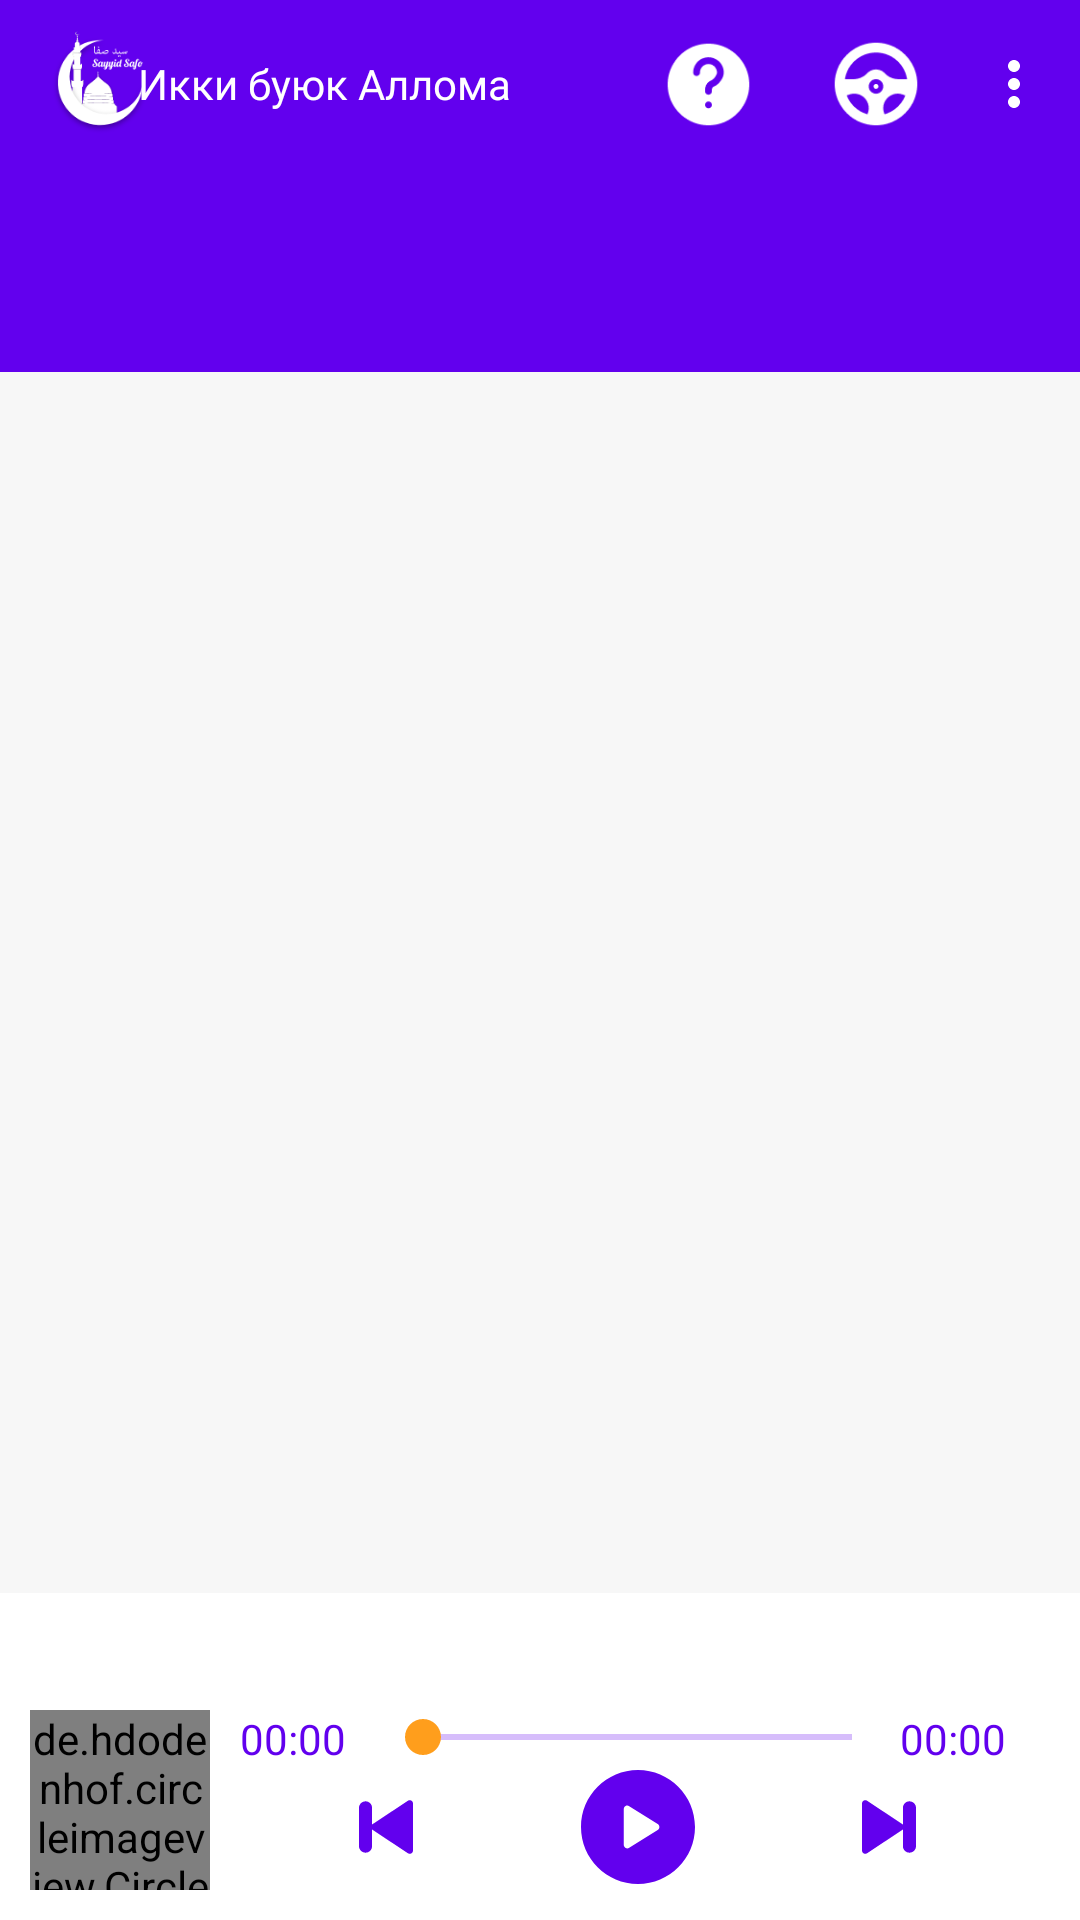

Icon bounding boxes for this 1080x1920 phone screenshot, format (x1, y1, x2, y2):
play: (581, 1770, 695, 1884)
skip next: (862, 1800, 916, 1854)
skip previous: (359, 1800, 413, 1854)
